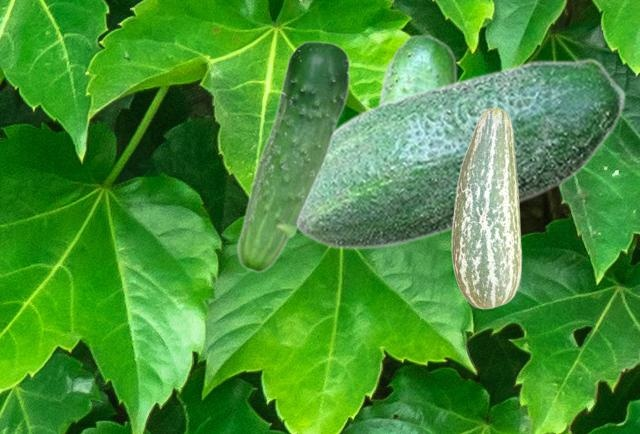cucumber: (297, 57, 626, 249), (236, 40, 350, 272), (451, 107, 521, 308), (377, 33, 456, 103)
